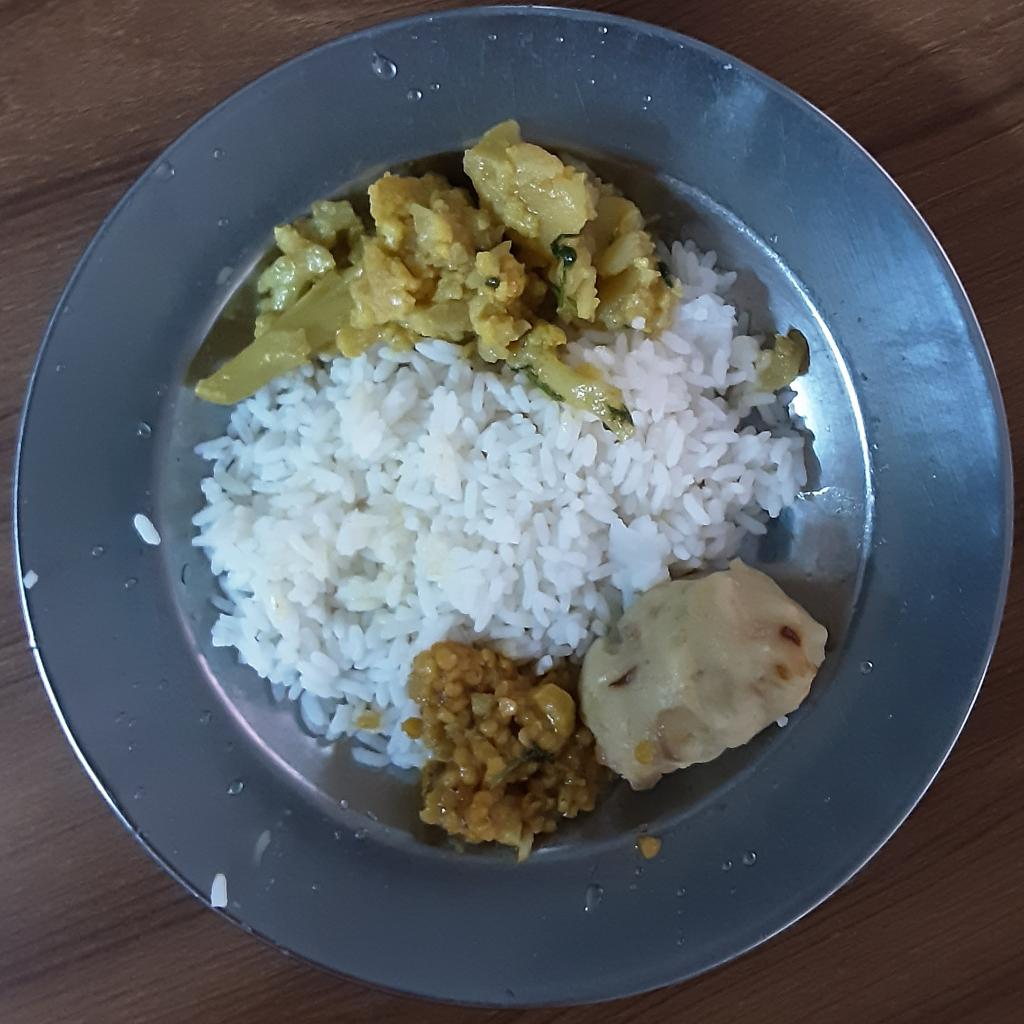cauliflower: (180, 116, 677, 444)
daal: (399, 642, 603, 866)
potato-mashed: (569, 560, 824, 793)
rice: (186, 243, 809, 770)
